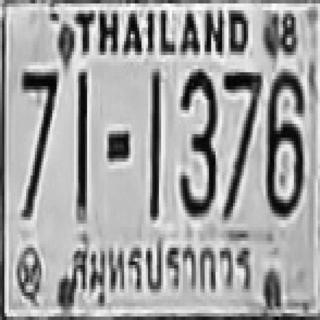N01: (75, 67, 88, 218), (148, 69, 159, 220)
N03: (178, 67, 216, 215)
N06: (264, 69, 304, 213)
N07: (222, 69, 261, 217), (19, 69, 56, 217), (19, 71, 56, 198)
P57: (67, 233, 255, 310)
